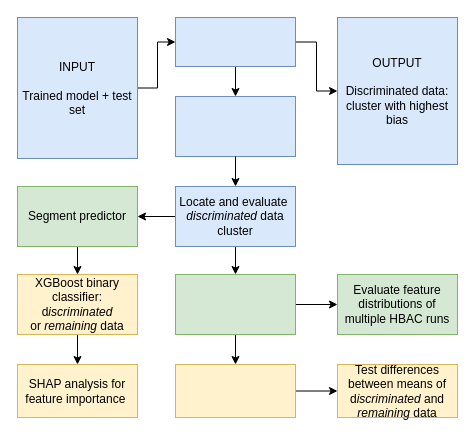
This 475x437 diagram has some shape labels left out. The centre of each missing label's shape, as x and y in pixels:
Error analysis using HBAC: the point at 235,41
Errors of model + Clustering algorithm: the point at 235,126
Evaluating cluster quality and describing clusters: the point at 235,304
Plot distributions of d iscriminated and remaining data: the point at 235,391
